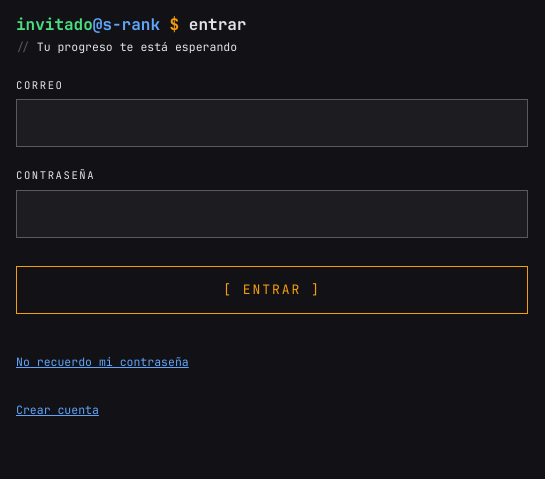
Test: si la sesión no queda abierta, lo dice y deja volver a intentarlo
The width and height of the screenshot is (545, 479).
Type "isra@local.test" into the field labelled "correo" at (272, 123), box [16,99,528,147]
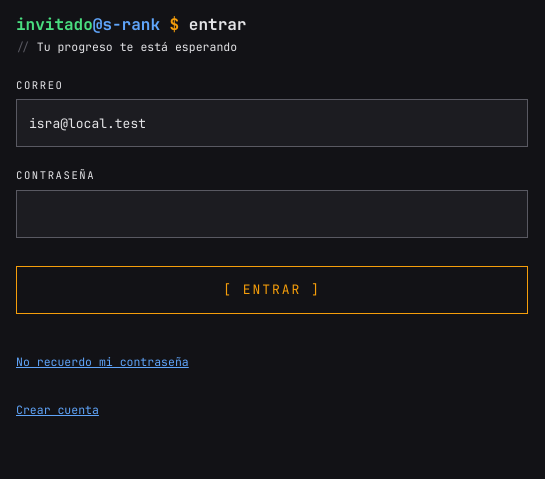
Type "contrasena8" into the password field labelled "contraseña" at (272, 214), box [16,190,528,238]
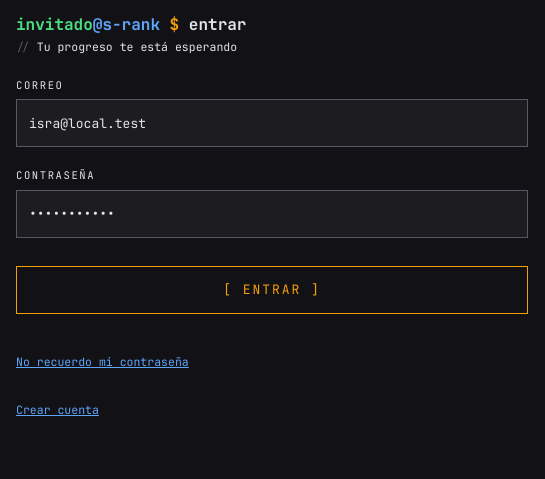
Click the button "[ ENTRAR ]" at (272, 290), box [16,266,528,314]
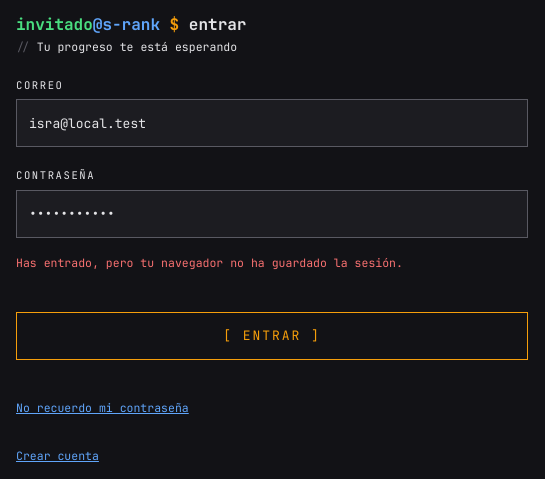
Expected: the button "[ ENTRAR ]" is shown, [16,312,528,360]
Expected: the message shows "no ha guardado la sesión", [16,255,403,270]
